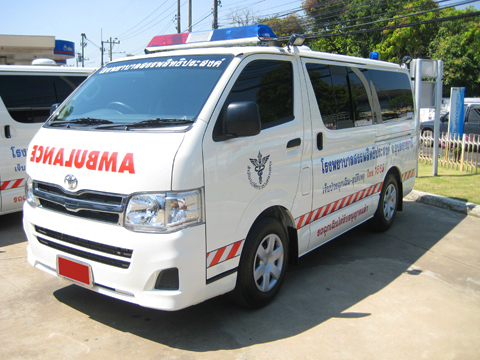van: (21, 36, 421, 313)
